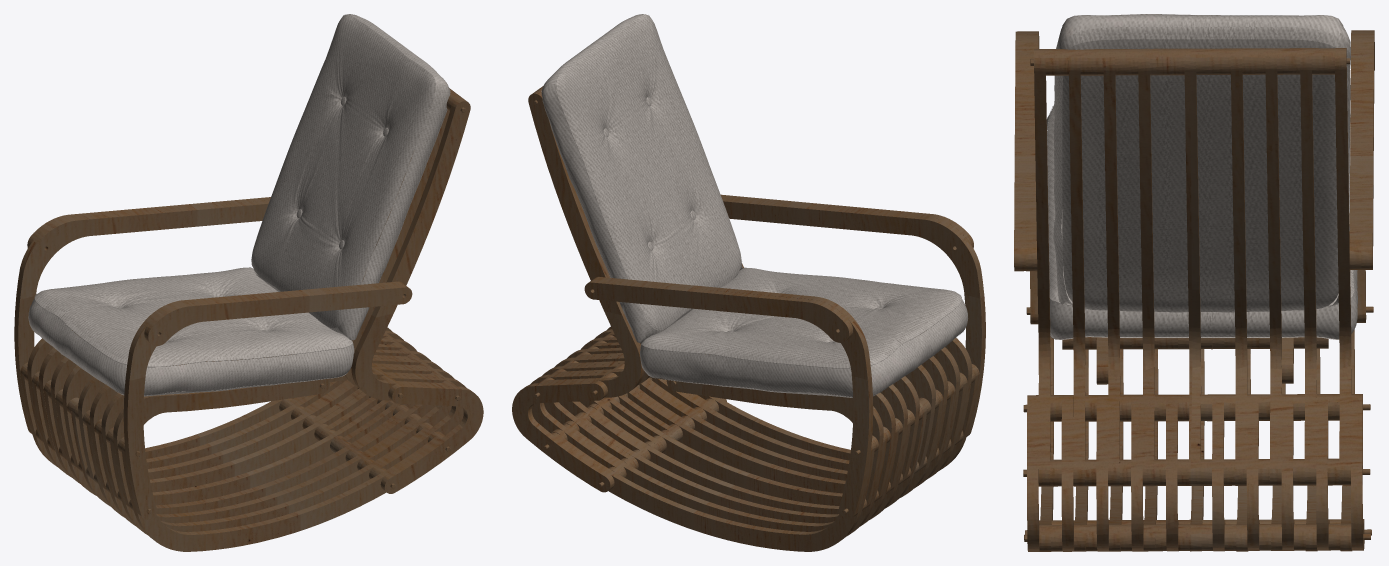
The picture shows the model from 3 angles, left to right: view 1: azimuth 30°, elevation 25°; view 2: azimuth 150°, elevation 25°; view 3: azimuth 270°, elevation 25°; orthographic projection. The views are drawn at different scales.
Parts seen in each view (by area): view 1: 6, Null_1, Null; view 2: 6, Null_1, Null; view 3: 6, Null_1, Null.
Boxes of the visible parts, x1=… form: 6: x1=14, y1=88, x2=483, y2=551; Null_1: x1=251, y1=14, x2=450, y2=340; Null: x1=28, y1=267, x2=354, y2=396; 6: x1=512, y1=86, x2=985, y2=551; Null_1: x1=541, y1=14, x2=742, y2=343; Null: x1=640, y1=267, x2=968, y2=397; 6: x1=1014, y1=30, x2=1374, y2=551; Null_1: x1=1053, y1=14, x2=1350, y2=312; Null: x1=1046, y1=105, x2=1357, y2=339.
Size of the model in its own units: 1.02 by 1.12 by 0.6068.
Materials: 2 (2 with a texture image).
